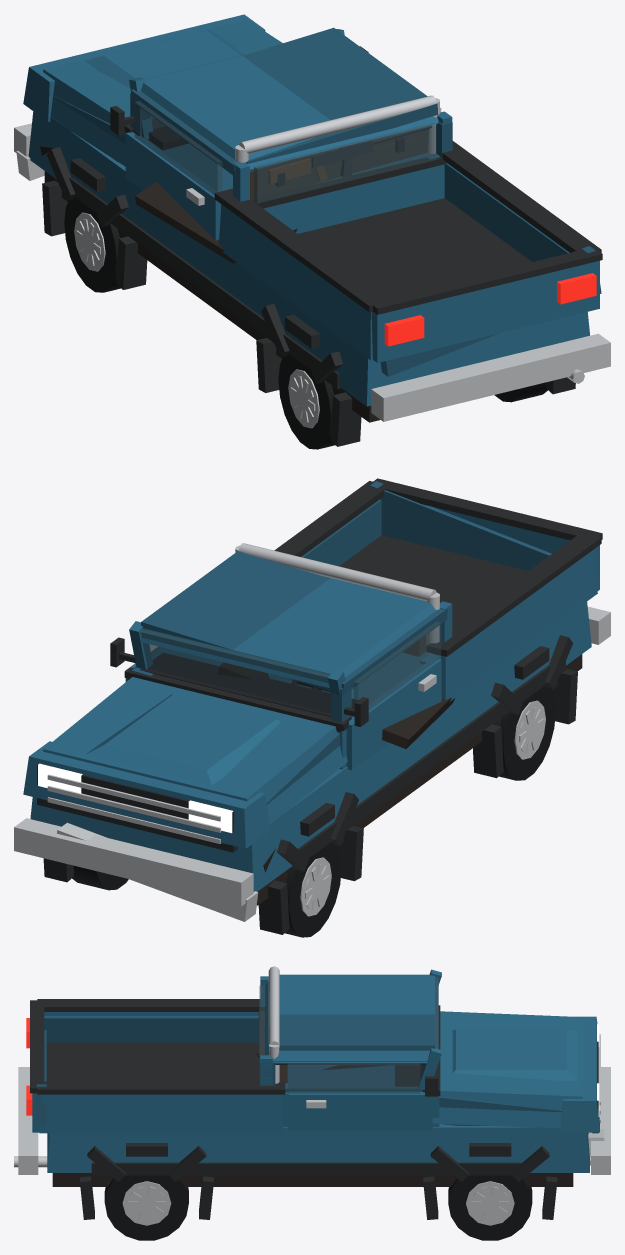
The model's file is pickup.glb.
3 renders of one model, top to bottom at view 1: azimuth 30°, elevation 25°; view 2: azimuth 150°, elevation 25°; view 3: azimuth 270°, elevation 25°, orthographic. The views are drawn at different scales.
Visible parts, largest first — view 1: STATIC_MAT_Body_Paint, STATIC_MAT_Trim, STATIC_MAT_Body_Damaged, STATIC_MAT_Chrome, STATIC_MAT_Glass, STATIC_MAT_Body_Wreck, DOOR_L_MAT_Body_Paint, DOOR_L_MAT_Glass, STATIC_MAT_Interior_Fabric, WHEEL_RL_MAT_Tire, WHEEL_FL_MAT_Tire, STATIC_MAT_Light_Tail (+5 smaller); view 2: STATIC_MAT_Body_Paint, STATIC_MAT_Trim, STATIC_MAT_Body_Damaged, STATIC_MAT_Chrome, STATIC_MAT_Glass, STATIC_MAT_Interior_Trim, DOOR_L_MAT_Body_Paint, STATIC_MAT_Body_Wreck, DOOR_L_MAT_Glass, WHEEL_FL_MAT_Tire, WHEEL_RL_MAT_Tire, STATIC_MAT_Light_Head (+3 smaller); view 3: STATIC_MAT_Body_Paint, STATIC_MAT_Trim, STATIC_MAT_Body_Damaged, DOOR_R_MAT_Body_Paint, STATIC_MAT_Chrome, STATIC_MAT_Body_Wreck, DOOR_R_MAT_Glass, WHEEL_RR_MAT_Tire, WHEEL_FR_MAT_Tire, WHEEL_RR_MAT_Chrome, WHEEL_FR_MAT_Chrome, STATIC_MAT_Glass (+1 smaller).
Part boxes in pixels (left/top/right/bottom): STATIC_MAT_Body_Paint: left=23, top=14, right=599, bottom=406; STATIC_MAT_Trim: left=42, top=46, right=602, bottom=446; STATIC_MAT_Body_Damaged: left=53, top=27, right=601, bottom=376; STATIC_MAT_Chrome: left=14, top=95, right=610, bottom=421; STATIC_MAT_Glass: left=147, top=55, right=436, bottom=203; STATIC_MAT_Body_Wreck: left=40, top=146, right=380, bottom=422; DOOR_L_MAT_Body_Paint: left=125, top=132, right=220, bottom=240; DOOR_L_MAT_Glass: left=134, top=101, right=222, bottom=195; STATIC_MAT_Interior_Fabric: left=250, top=129, right=428, bottom=199; WHEEL_RL_MAT_Tire: left=278, top=354, right=334, bottom=449; WHEEL_FL_MAT_Tire: left=64, top=197, right=120, bottom=292; STATIC_MAT_Light_Tail: left=384, top=273, right=596, bottom=346; STATIC_MAT_Body_Paint: left=23, top=499, right=599, bottom=891; STATIC_MAT_Trim: left=37, top=478, right=602, bottom=934; STATIC_MAT_Body_Damaged: left=131, top=481, right=551, bottom=804; STATIC_MAT_Chrome: left=14, top=543, right=610, bottom=921; STATIC_MAT_Glass: left=140, top=629, right=331, bottom=712; STATIC_MAT_Interior_Trim: left=140, top=652, right=357, bottom=716; DOOR_L_MAT_Body_Paint: left=346, top=657, right=441, bottom=770; STATIC_MAT_Body_Wreck: left=217, top=654, right=582, bottom=905; DOOR_L_MAT_Glass: left=353, top=621, right=441, bottom=709; WHEEL_FL_MAT_Tire: left=285, top=842, right=341, bottom=937; WHEEL_RL_MAT_Tire: left=499, top=685, right=555, bottom=780; STATIC_MAT_Light_Head: left=38, top=763, right=233, bottom=833; STATIC_MAT_Body_Paint: left=32, top=969, right=599, bottom=1172; STATIC_MAT_Trim: left=30, top=999, right=598, bottom=1219; STATIC_MAT_Body_Damaged: left=36, top=1014, right=561, bottom=1125; DOOR_R_MAT_Body_Paint: left=288, top=1091, right=432, bottom=1131; STATIC_MAT_Chrome: left=14, top=966, right=610, bottom=1174; STATIC_MAT_Body_Wreck: left=52, top=1052, right=573, bottom=1186; DOOR_R_MAT_Glass: left=287, top=1063, right=420, bottom=1093; WHEEL_RR_MAT_Tire: left=104, top=1175, right=188, bottom=1240; WHEEL_FR_MAT_Tire: left=448, top=1175, right=532, bottom=1240; WHEEL_RR_MAT_Chrome: left=122, top=1181, right=171, bottom=1225; WHEEL_FR_MAT_Chrome: left=466, top=1181, right=514, bottom=1225; STATIC_MAT_Glass: left=259, top=976, right=438, bottom=1081.
Size of the model in its own units: 2.19 by 1.92 by 5.39.
